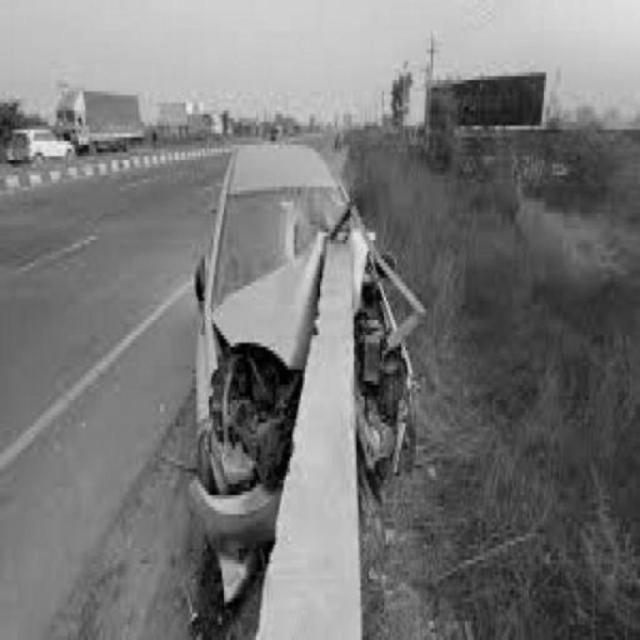accident: (194, 143, 414, 533)
